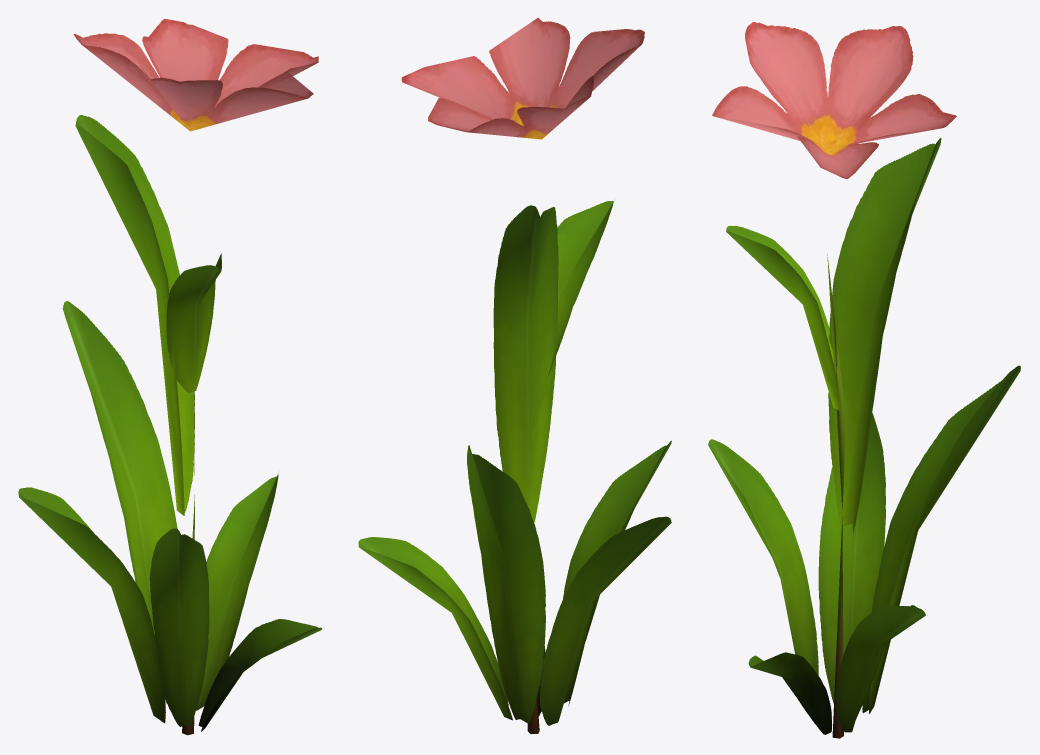
The model's file is flower_3_single.glb.
3 views of the same model, side by side, from view 1: azimuth 30°, elevation 25°; view 2: azimuth 150°, elevation 25°; view 3: azimuth 270°, elevation 25° (orthographic). The views are drawn at different scales.
Parts seen in each view (by area): view 1: Flower_3_Single; view 2: Flower_3_Single; view 3: Flower_3_Single.
Boxes of the visible parts, <box> form: Flower_3_Single: <box>18,19,321,735</box>; Flower_3_Single: <box>358,17,671,733</box>; Flower_3_Single: <box>708,22,1020,738</box>.
Size of the model in its own units: 0.9067 by 2.07 by 0.8774.
2 materials, 2 textured.
